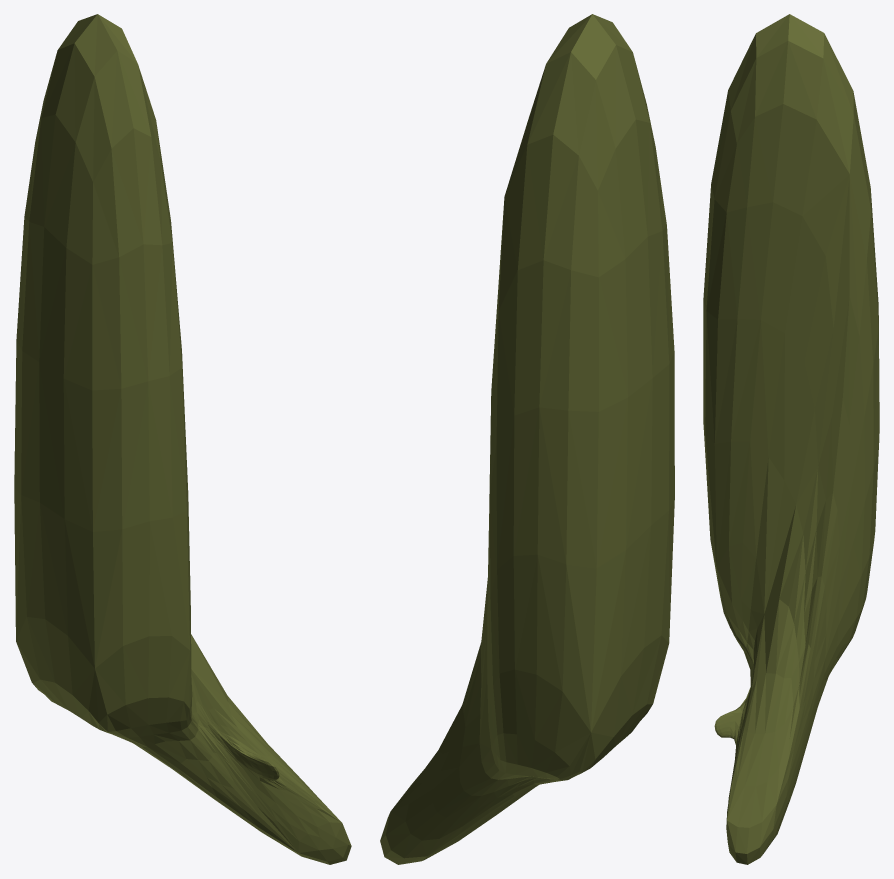
3 views of the same model, side by side, from view 1: azimuth 30°, elevation 25°; view 2: azimuth 150°, elevation 25°; view 3: azimuth 270°, elevation 25° (orthographic). The views are drawn at different scales.
Parts seen in each view (by area): view 1: 325_Cube.1329; view 2: 325_Cube.1329; view 3: 325_Cube.1329.
Part boxes in pixels (x1,y1,x2,y2): 325_Cube.1329: [14, 14, 351, 864]; 325_Cube.1329: [380, 14, 674, 864]; 325_Cube.1329: [703, 14, 879, 864].
Size of the model in its own units: 4.74 by 14.12 by 2.97.
